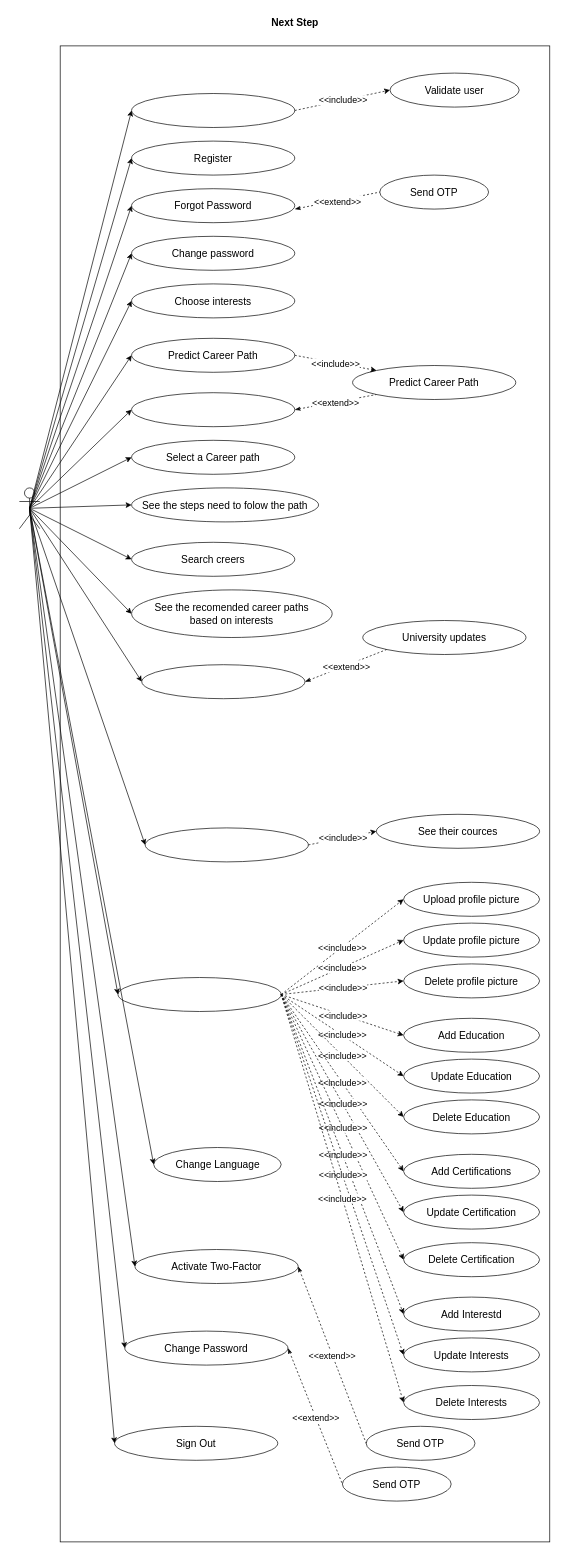
This 562x1554 diagram has some shape labels left out. Each missing label, with the box of its shape:
Can see the top career paths: (131, 392, 295, 427)
Explore Universities: (144, 827, 308, 862)
Login: (131, 93, 295, 128)
See Notifications: (141, 664, 305, 699)
Student: (19, 487, 40, 529)
Update Profile: (117, 977, 281, 1012)
